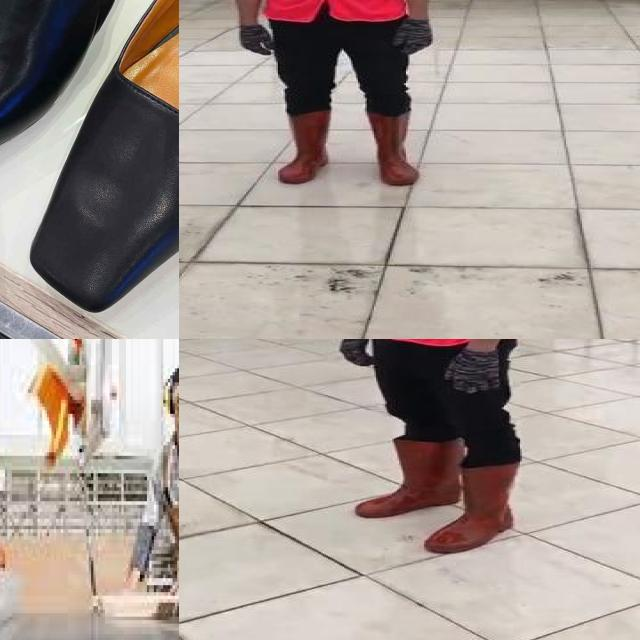Ear-protection: (158, 375, 172, 414)
Sandals: (18, 0, 179, 328), (0, 0, 179, 242)
boots: (355, 437, 463, 521), (426, 462, 520, 554), (362, 112, 426, 186), (276, 110, 335, 184)
hand_glove: (444, 352, 506, 391), (392, 22, 436, 56), (337, 339, 378, 370), (239, 21, 276, 53)
person: (324, 339, 553, 547), (223, 0, 447, 191), (120, 359, 179, 617)
